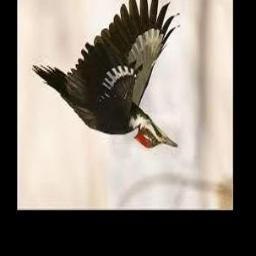Woodpecker: (32, 0, 181, 149)
